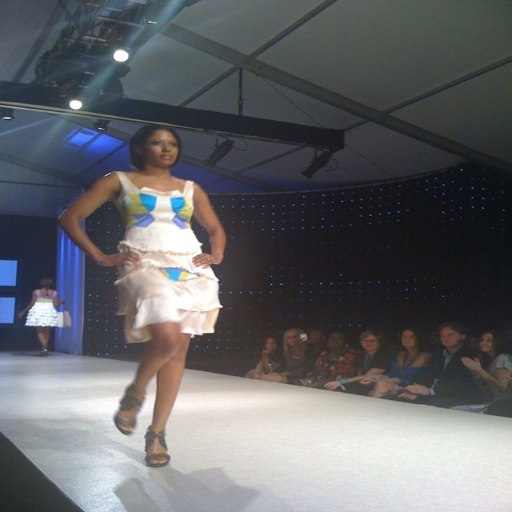hand: (188, 249, 222, 270), (459, 355, 483, 373), (406, 383, 432, 397), (117, 252, 140, 267), (323, 377, 344, 392), (395, 392, 421, 403), (360, 376, 380, 384), (259, 348, 272, 358)
